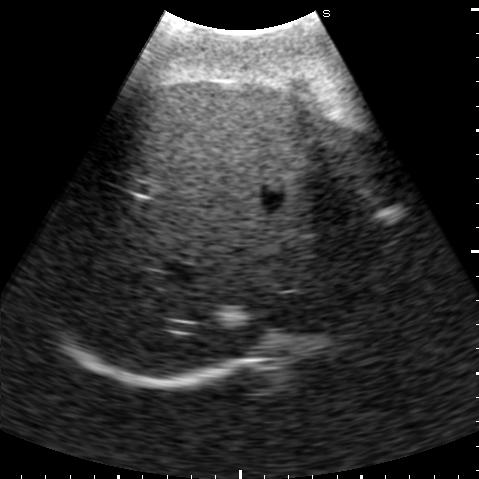S5: (113, 81, 330, 206)
S7: (40, 172, 159, 335)
S8: (98, 169, 346, 374)
Tumor: (215, 306, 248, 327), (373, 205, 407, 222)
